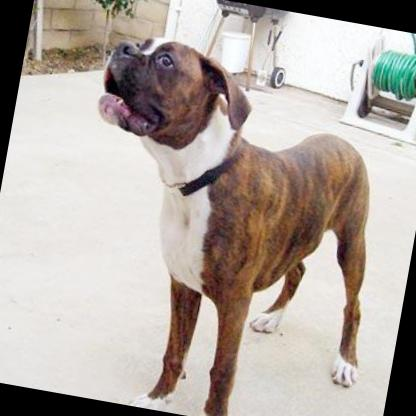boxer: (43, 23, 408, 416)
